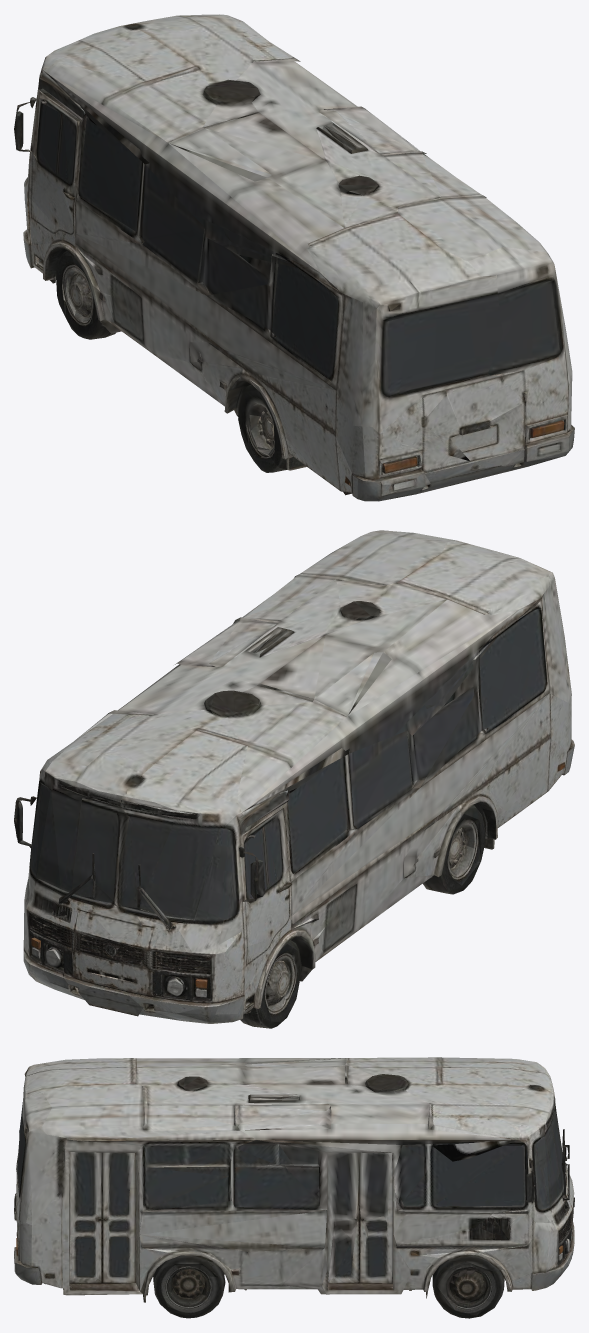
File: paz_3205_bus_11000.glb
3 renders of one model, top to bottom at view 1: azimuth 30°, elevation 25°; view 2: azimuth 150°, elevation 25°; view 3: azimuth 270°, elevation 25°, orthographic. The views are drawn at different scales.
Visible parts, largest first — view 1: output_unwrapped; view 2: output_unwrapped; view 3: output_unwrapped.
Boxes of the visible parts, x1,y1,x2,y2 form: output_unwrapped: (14,14,574,501); output_unwrapped: (14,530,574,1028); output_unwrapped: (14,1057,574,1318).
Size of the model in its own units: 2.82 by 2.83 by 7.2.
1 material, 1 textured.
